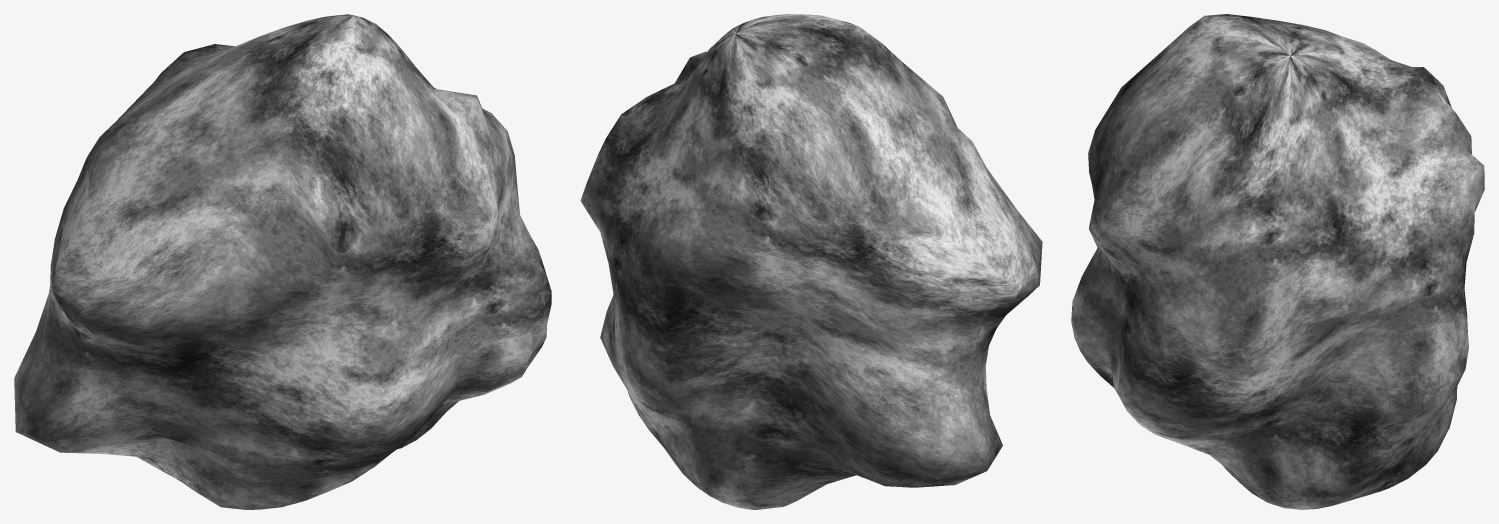
Rendered from Asteroid01g.fbx.
3 views of the same model, side by side, from view 1: azimuth 30°, elevation 25°; view 2: azimuth 150°, elevation 25°; view 3: azimuth 270°, elevation 25° (orthographic). The views are drawn at different scales.
Parts seen in each view (by area): view 1: Asteroid01g; view 2: Asteroid01g; view 3: Asteroid01g.
Boxes of the visible parts, x1,y1,x2,y2 form: Asteroid01g: (14, 14, 551, 509); Asteroid01g: (580, 14, 1042, 509); Asteroid01g: (1071, 14, 1484, 509).
Bounding box in the file's own units: 2025 × 1981 × 1620.
